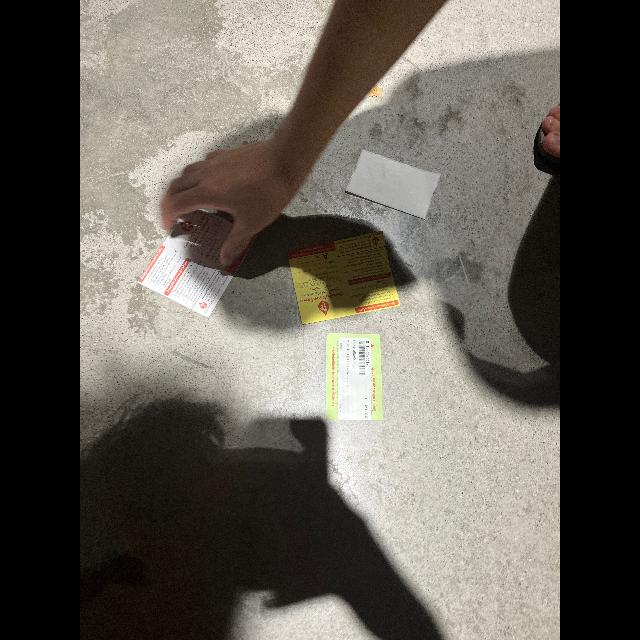scrap_paper: (143, 192, 260, 314), (278, 225, 409, 328), (311, 324, 399, 428), (339, 146, 445, 222)
